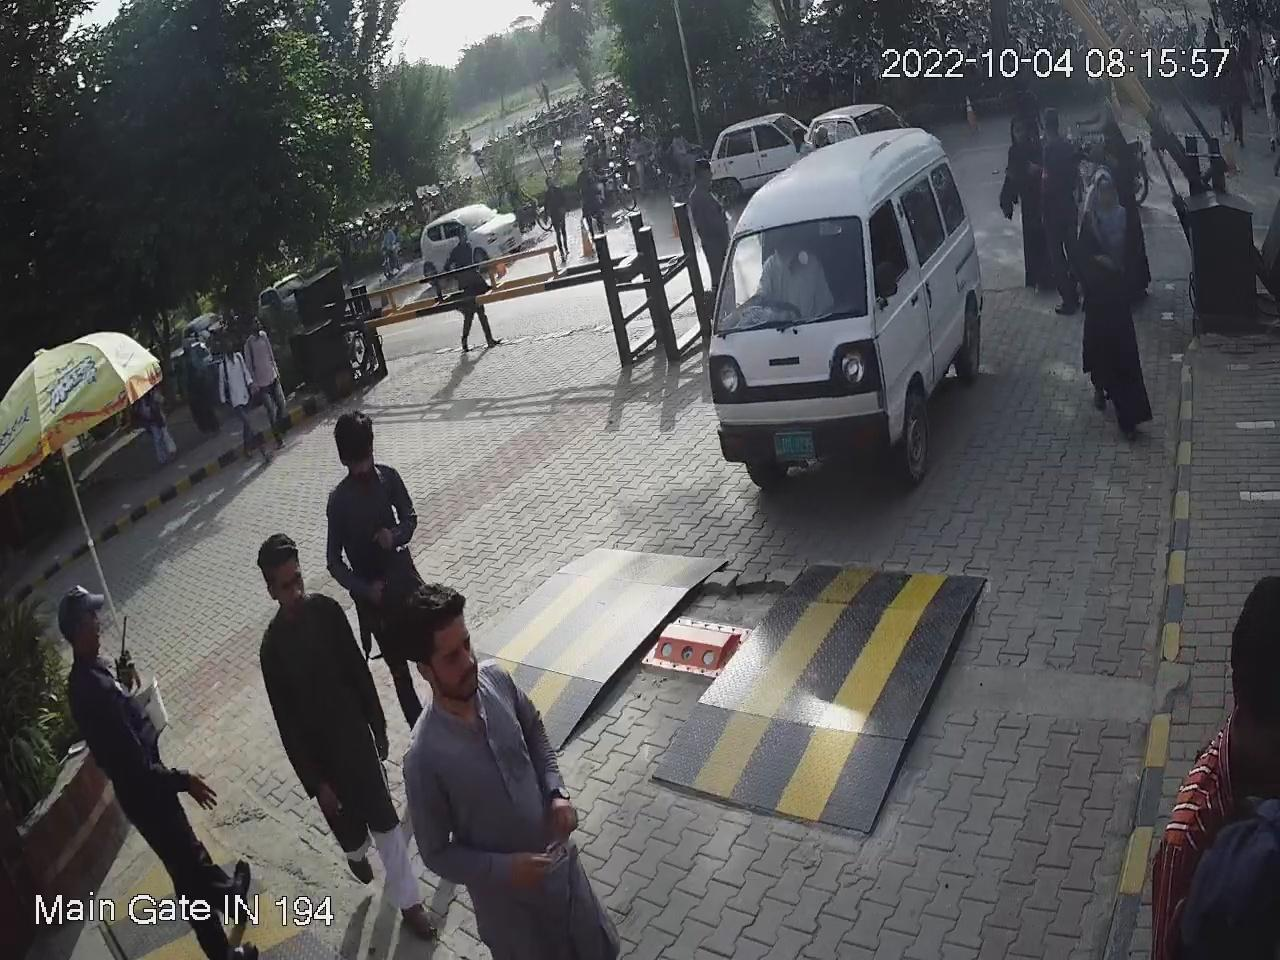windshield: (706, 195, 871, 343)
